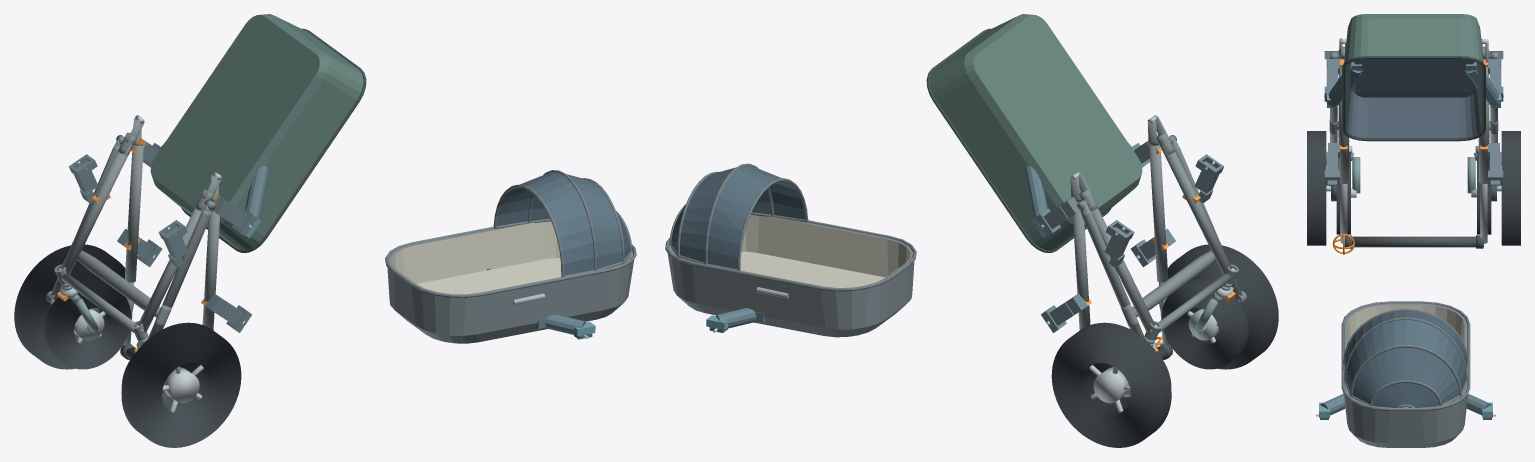
The model's file is D09_w550_state3_wheel_L.glb.
3 renders of one model, left to right at view 1: azimuth 30°, elevation 25°; view 2: azimuth 150°, elevation 25°; view 3: azimuth 270°, elevation 25°, orthographic. The views are drawn at different scales.
Visible parts, largest first — view 1: D09_Upper, D09_Lower, RL_tire.004, FR_tire.004, RR_tire.004, main_upper_1.005, main_lower_1.005, V46_rearbar.005, main_upper_-1.005, V46_rear_leg_-1.005, main_lower_-1.005, RL_sealed_hub.004 (+7 smaller); view 2: D09_Upper, D09_Lower, RR_tire.004, FL_tire.004, RL_tire.004, main_upper_-1.005, main_lower_-1.005, V46_rearbar.005, main_upper_1.005, V46_rear_leg_1.005, main_lower_1.005, RR_sealed_hub.004 (+8 smaller); view 3: D09_Upper, D09_Lower, RL_tire.004, RR_tire.004, round_handle.004, D09_Lower_Mount_M, D09_Upper_Mount_H, main_upper_1.005, main_upper_-1.005, Universal_Cabin_Receiver_H_1, Universal_Cabin_Receiver_H_-1, FR_tire.004 (+8 smaller).
Part boxes in pixels (x1,y1,x2,y2): D09_Upper: [385, 170, 636, 343]; D09_Lower: [150, 14, 366, 252]; RL_tire.004: [121, 322, 241, 447]; FR_tire.004: [44, 279, 131, 369]; RR_tire.004: [14, 244, 133, 369]; main_upper_1.005: [124, 145, 143, 282]; main_lower_1.005: [61, 145, 131, 274]; V46_rearbar.005: [77, 250, 160, 317]; main_upper_-1.005: [202, 202, 219, 330]; V46_rear_leg_-1.005: [147, 209, 211, 339]; main_lower_-1.005: [138, 206, 204, 332]; RL_sealed_hub.004: [164, 367, 199, 403]; D09_Upper: [665, 163, 916, 337]; D09_Lower: [926, 14, 1142, 252]; RR_tire.004: [1051, 322, 1171, 447]; FL_tire.004: [1161, 279, 1248, 369]; RL_tire.004: [1159, 244, 1278, 369]; main_upper_-1.005: [1149, 145, 1168, 282]; main_lower_-1.005: [1161, 145, 1232, 274]; V46_rearbar.005: [1132, 250, 1215, 317]; main_upper_1.005: [1073, 202, 1090, 329]; V46_rear_leg_1.005: [1081, 209, 1145, 339]; main_lower_1.005: [1088, 206, 1154, 332]; RR_sealed_hub.004: [1093, 367, 1129, 403]; D09_Upper: [1341, 301, 1470, 447]; D09_Lower: [1342, 14, 1485, 141]; RL_tire.004: [1307, 131, 1326, 245]; RR_tire.004: [1501, 131, 1520, 245]; round_handle.004: [1352, 236, 1483, 247]; D09_Lower_Mount_M: [1324, 61, 1503, 107]; D09_Upper_Mount_H: [1316, 394, 1495, 419]; main_upper_1.005: [1479, 66, 1489, 183]; main_upper_-1.005: [1338, 66, 1348, 183]; Universal_Cabin_Receiver_H_1: [1488, 143, 1503, 185]; Universal_Cabin_Receiver_H_-1: [1324, 143, 1339, 185]; FR_tire.004: [1477, 152, 1491, 234].
Size of the model in its own units: 1.79 by 1.03 by 0.671.
